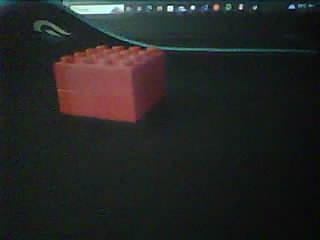lego: (53, 44, 169, 123)
